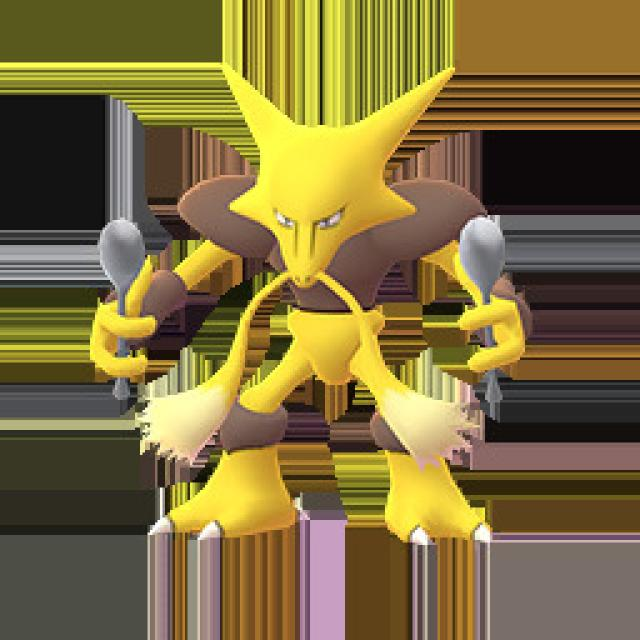Alakazam: (101, 100, 520, 556)
